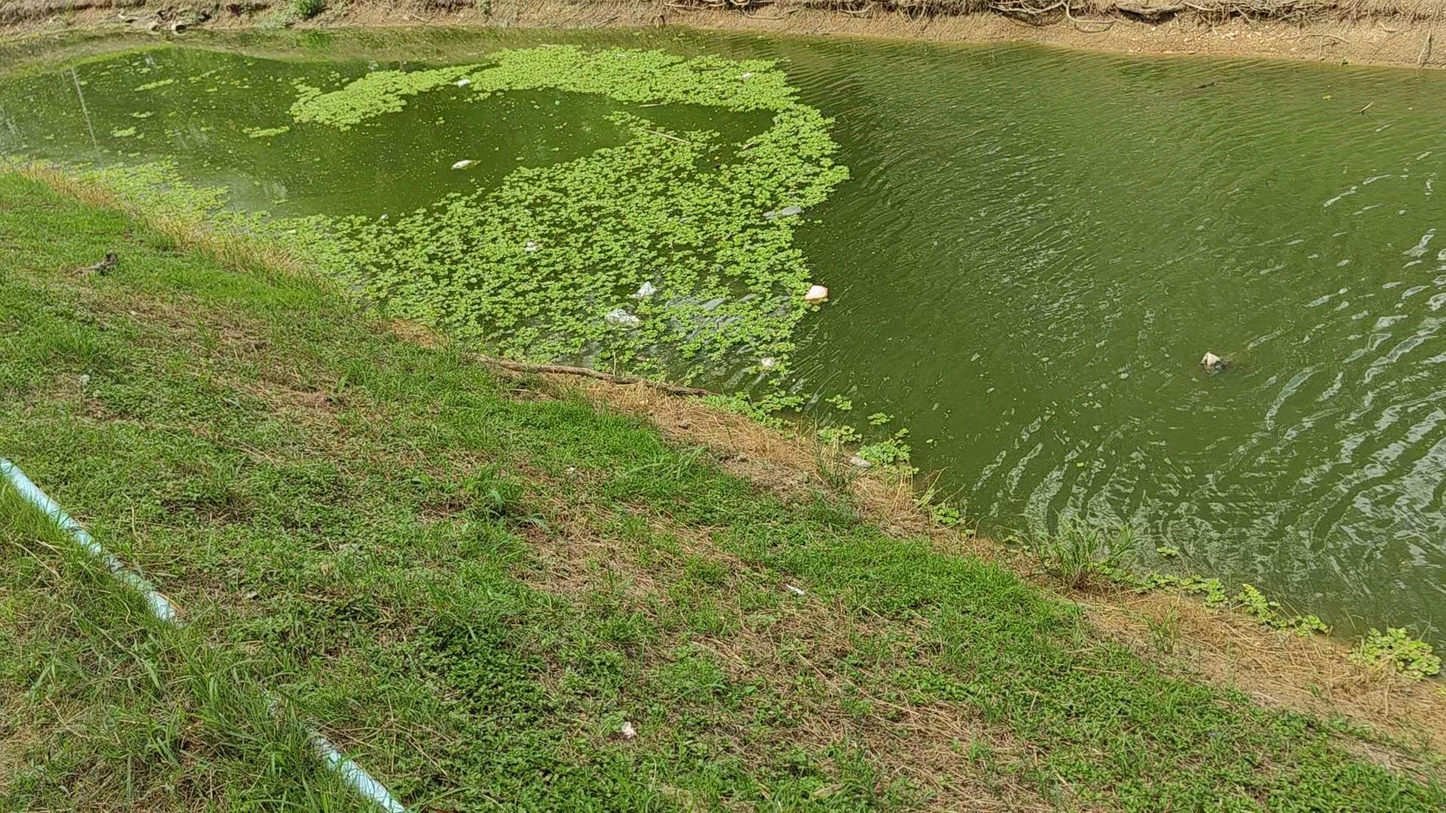trash: (606, 308, 640, 328), (1201, 352, 1224, 371), (766, 206, 801, 218), (805, 285, 828, 300), (633, 282, 656, 297), (759, 357, 776, 369), (452, 160, 473, 169), (524, 240, 538, 252), (455, 79, 469, 87), (741, 72, 754, 78), (379, 213, 388, 221)
